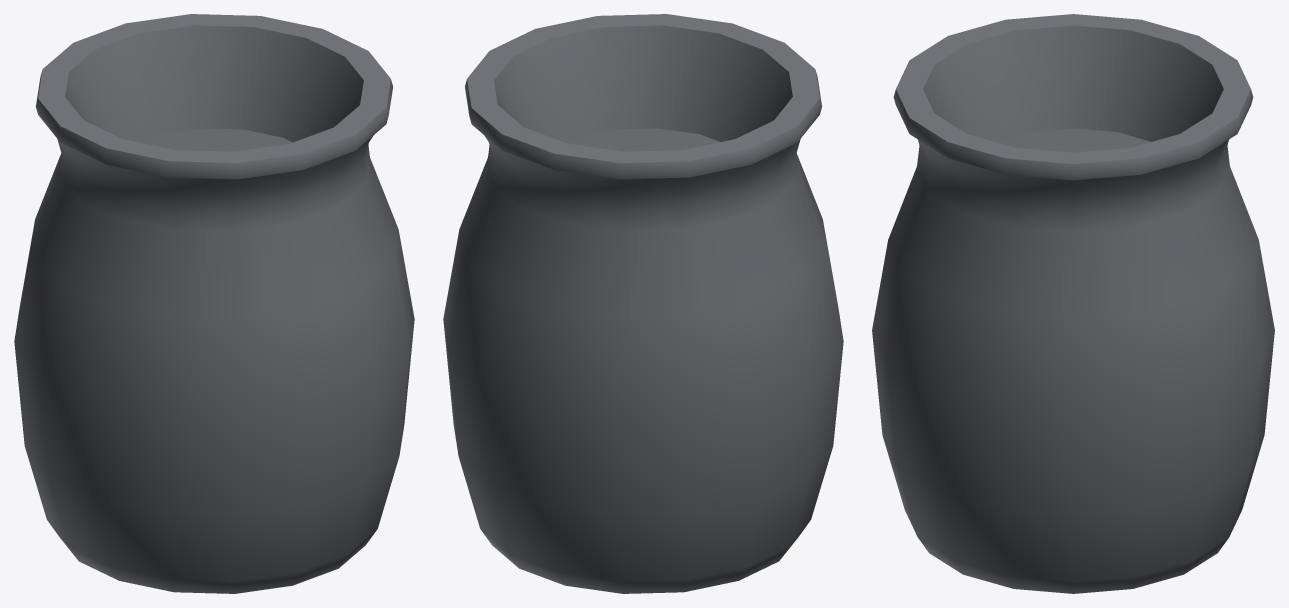
File: Pot_1.fbx
3 views of the same model, side by side, from view 1: azimuth 30°, elevation 25°; view 2: azimuth 150°, elevation 25°; view 3: azimuth 270°, elevation 25° (orthographic).
Visible parts, largest first — view 1: Pot_1; view 2: Pot_1; view 3: Pot_1.
Boxes of the visible parts, x1,y1,x2,y2 form: Pot_1: (14, 14, 414, 593); Pot_1: (443, 14, 843, 593); Pot_1: (872, 14, 1274, 593).
Bounding box in the file's own units: 60.75 × 74.27 × 60.75.
